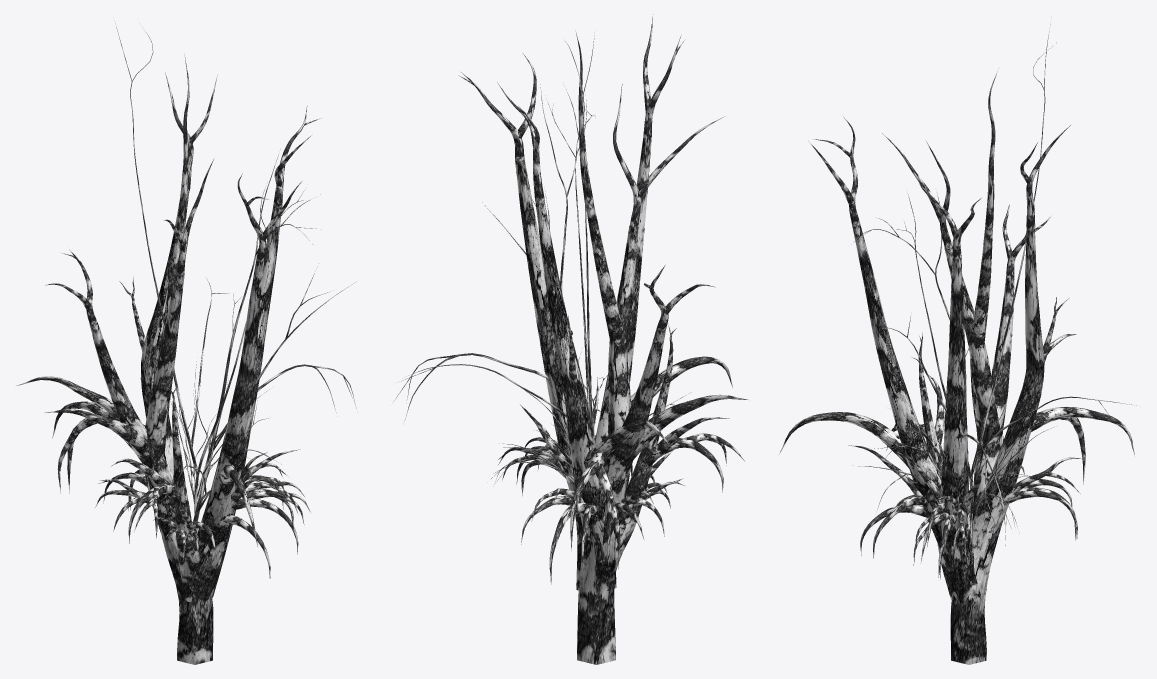
Rendered from arbol2base.obj.
The picture shows the model from 3 angles, left to right: view 1: azimuth 30°, elevation 25°; view 2: azimuth 150°, elevation 25°; view 3: azimuth 270°, elevation 25°; orthographic projection. The views are drawn at different scales.
Visible parts, largest first — view 1: tree; view 2: tree; view 3: tree.
Part boxes in pixels (bbox=[...]): tree: bbox=[16, 27, 356, 664]; tree: bbox=[394, 14, 747, 664]; tree: bbox=[779, 24, 1136, 664].
Size of the model in its own units: 2.01 by 3.71 by 1.97.
